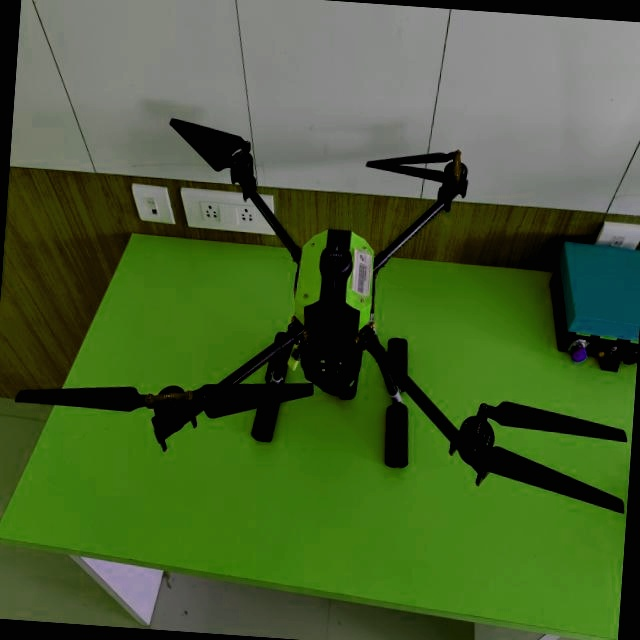quadcopter: (2, 101, 640, 525)
